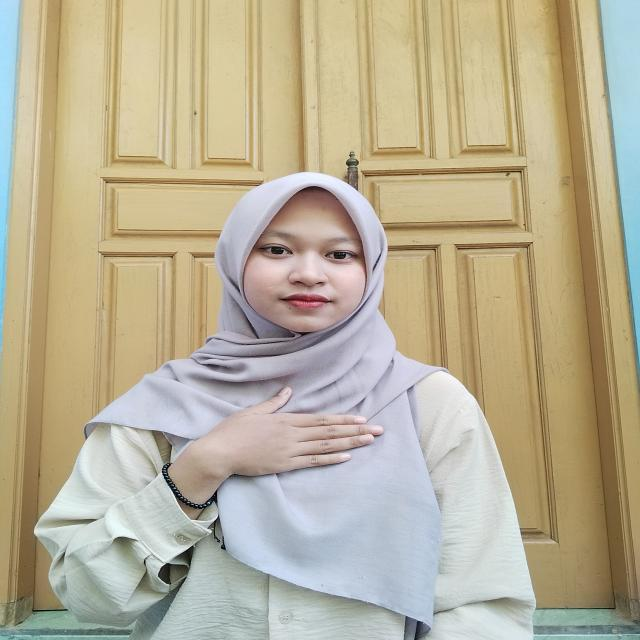tolong: (150, 383, 392, 500)
